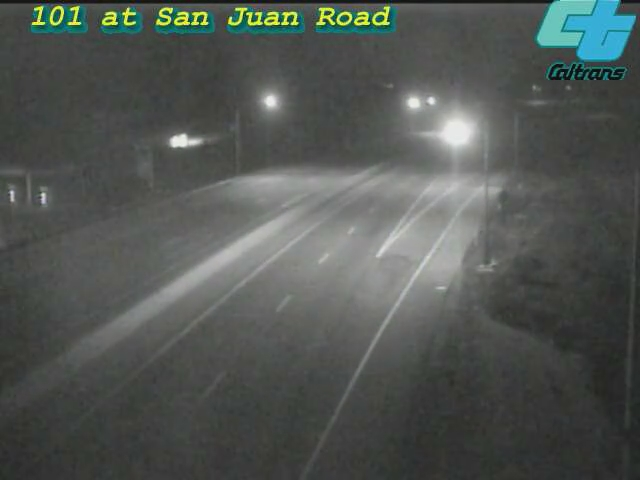vehicle: (429, 109, 479, 159)
